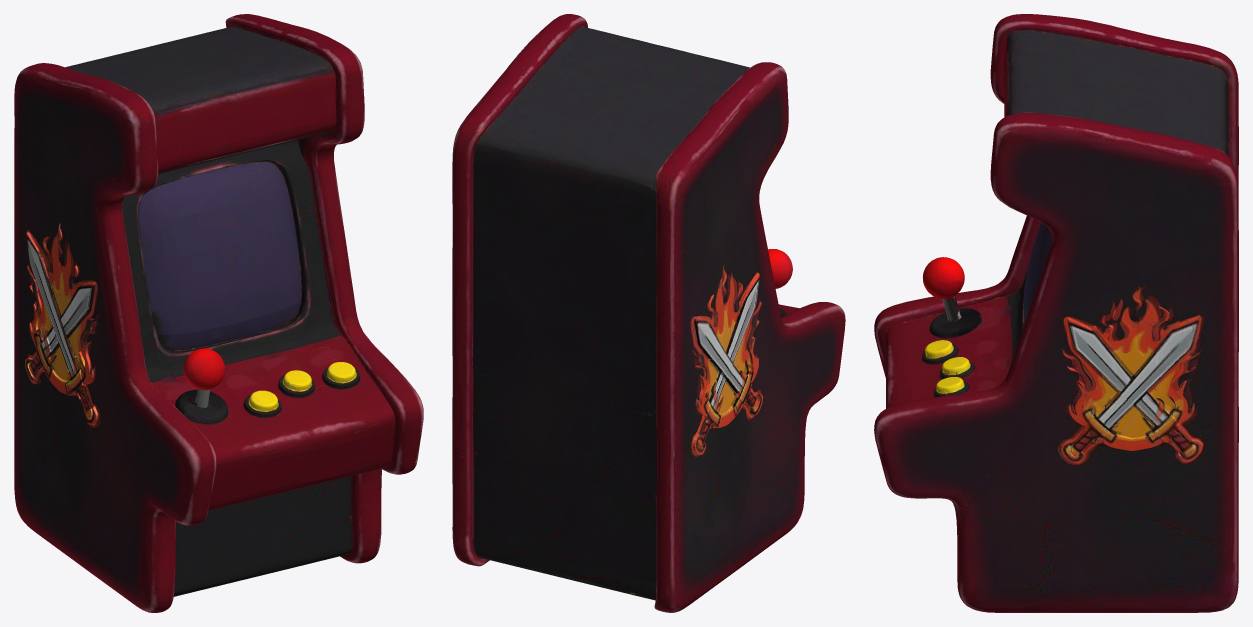
File: arcade1.glb
3 views of the same model, side by side, from view 1: azimuth 30°, elevation 25°; view 2: azimuth 150°, elevation 25°; view 3: azimuth 270°, elevation 25° (orthographic). The views are drawn at different scales.
Bounding box in the file's own units: 0.9741 × 1.9 × 1.27.
Materials: 1 (1 with a texture image).
